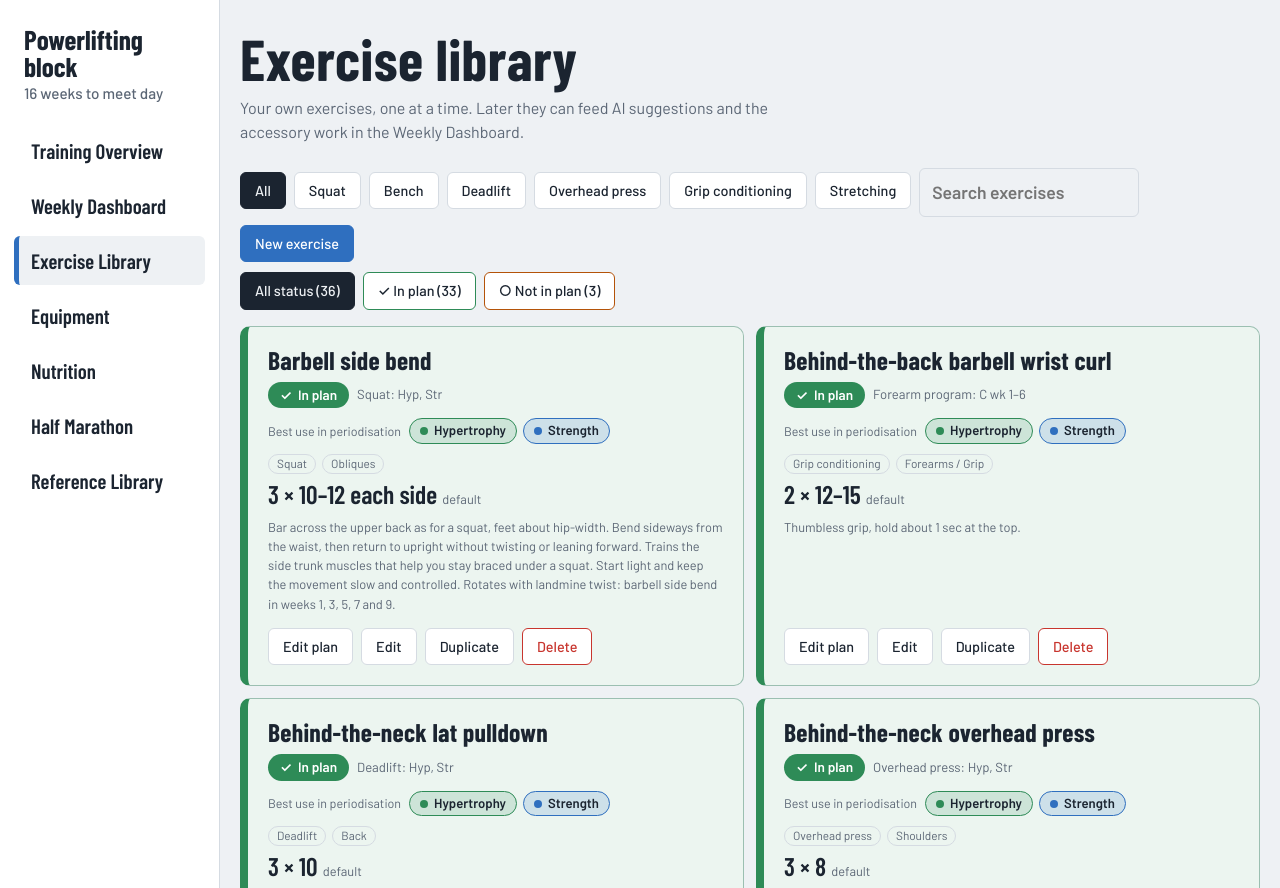
Test: exercise library › adds an exercise, puts it in the plan, renames it and deletes it
The width and height of the screenshot is (1280, 888).
Later steps or results of the test are not shown.
Step 1. Click the button "New exercise" → (297, 244), box [240,225,354,262]
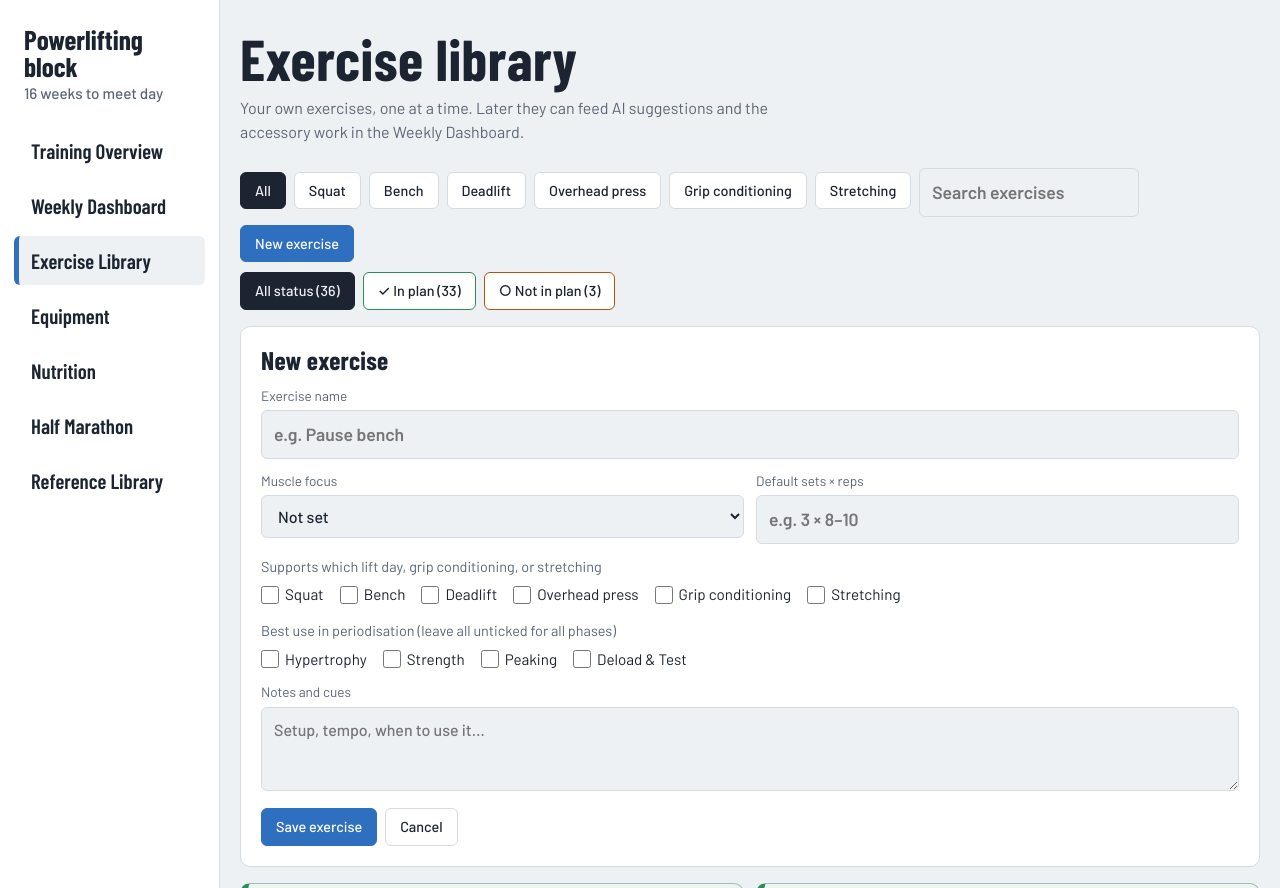
Step 2. Click the button "Save exercise" → (319, 827), box [261,808,377,846]
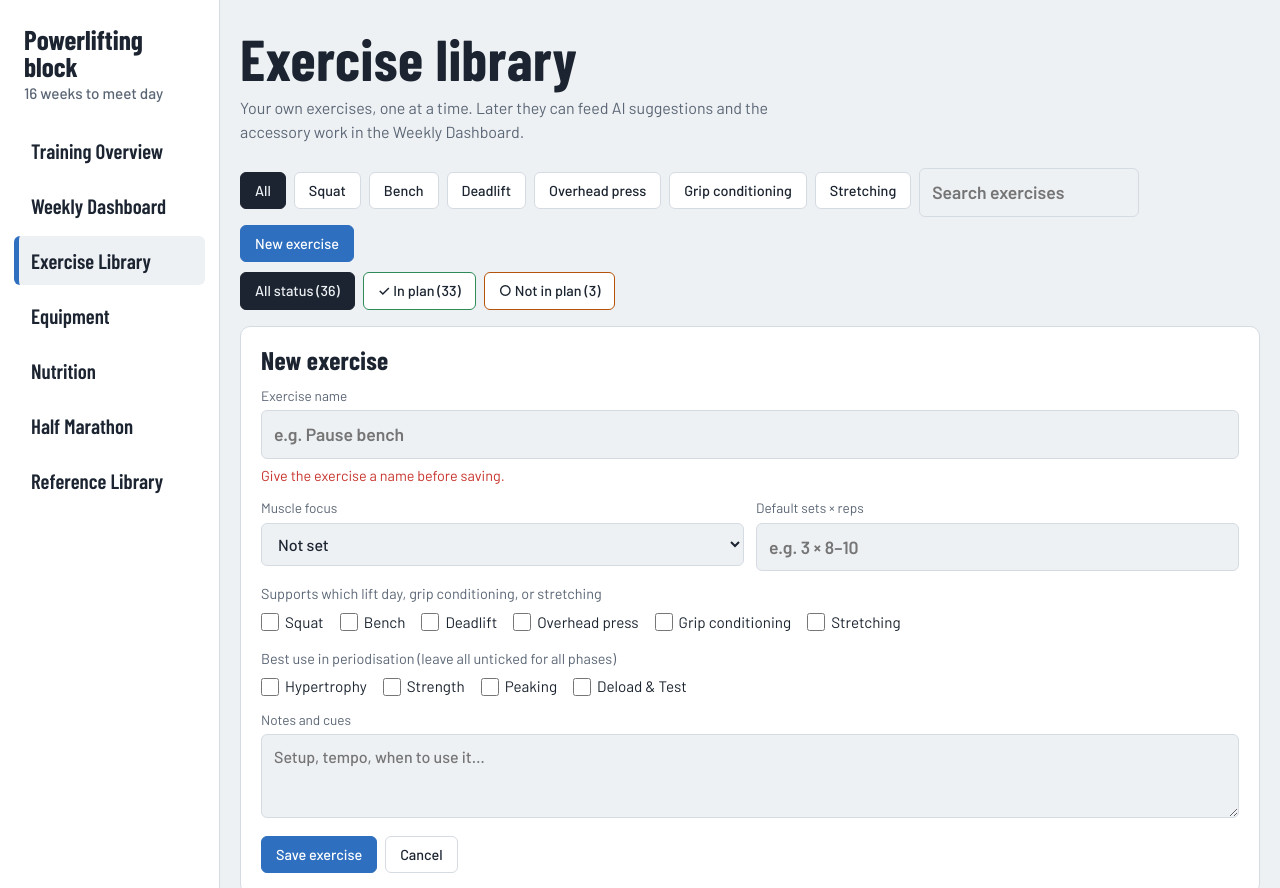
Expected: the text "Give the exercise a name before saving." is shown, [261,467,505,484]
Step 3. Type "Spoto press" into the field with id "dname" → (750, 434), box [261,410,1239,459]
Step 4. Type "3 × 6" into the field with id "dsets" → (998, 547), box [756,523,1239,571]
Step 5. Click the checkbox labelled "Bench" → (349, 622), box [340,613,358,631]
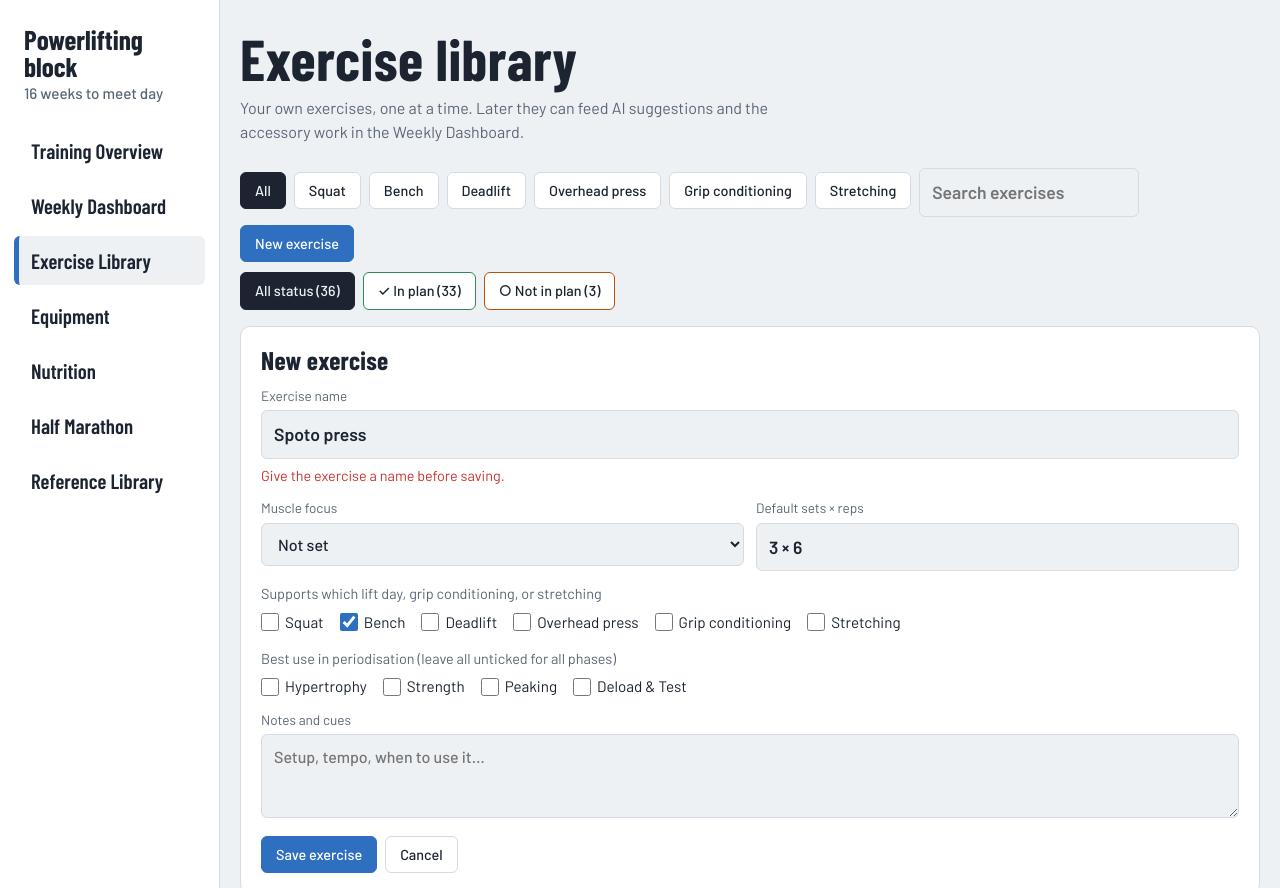
Step 6. Click the button "Save exercise" → (319, 854), box [261,836,377,873]
(page scrolled)
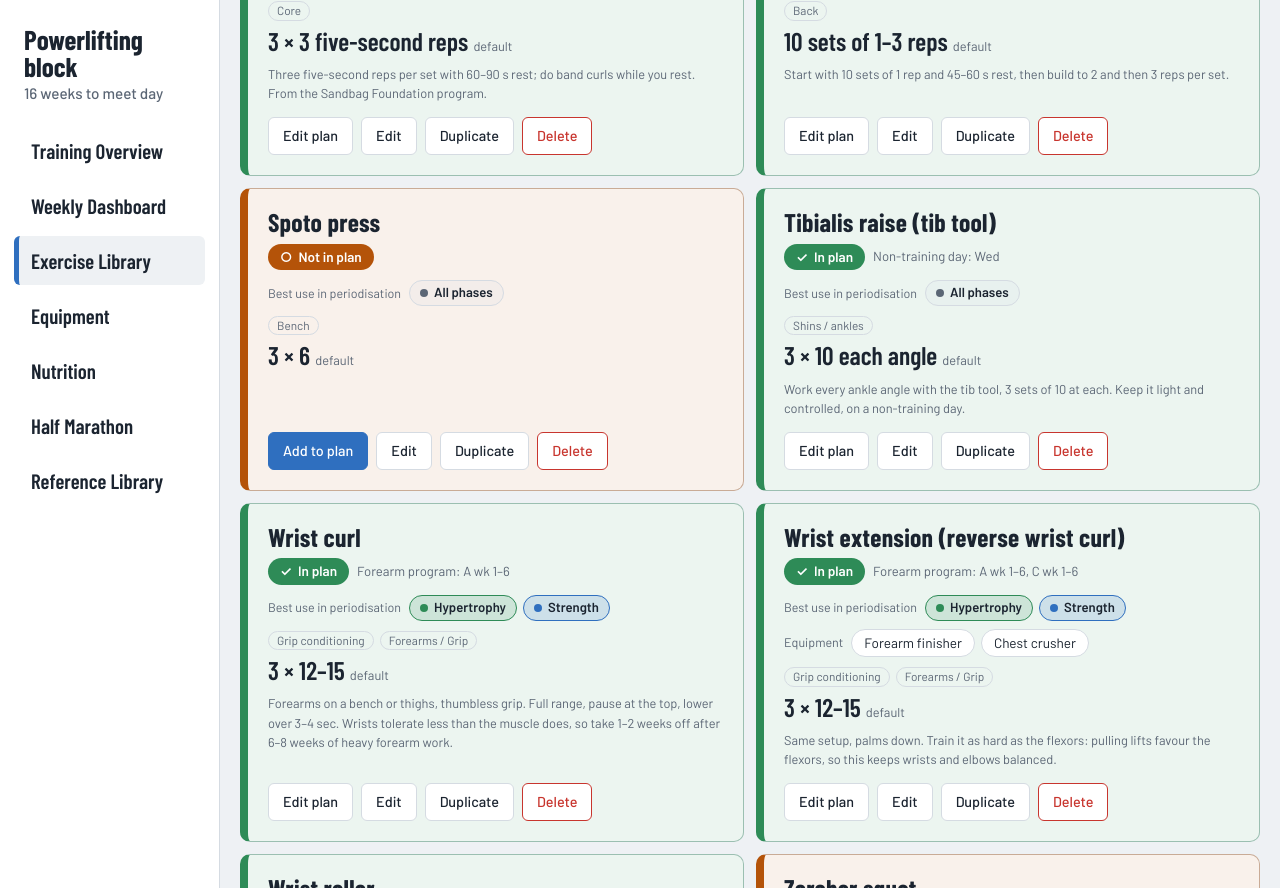
Expected: the element "Spoto press" shows "Not in plan", [298,248,362,265]
Step 7. Click the button "Add to plan" → (318, 451), box [268,432,368,470]
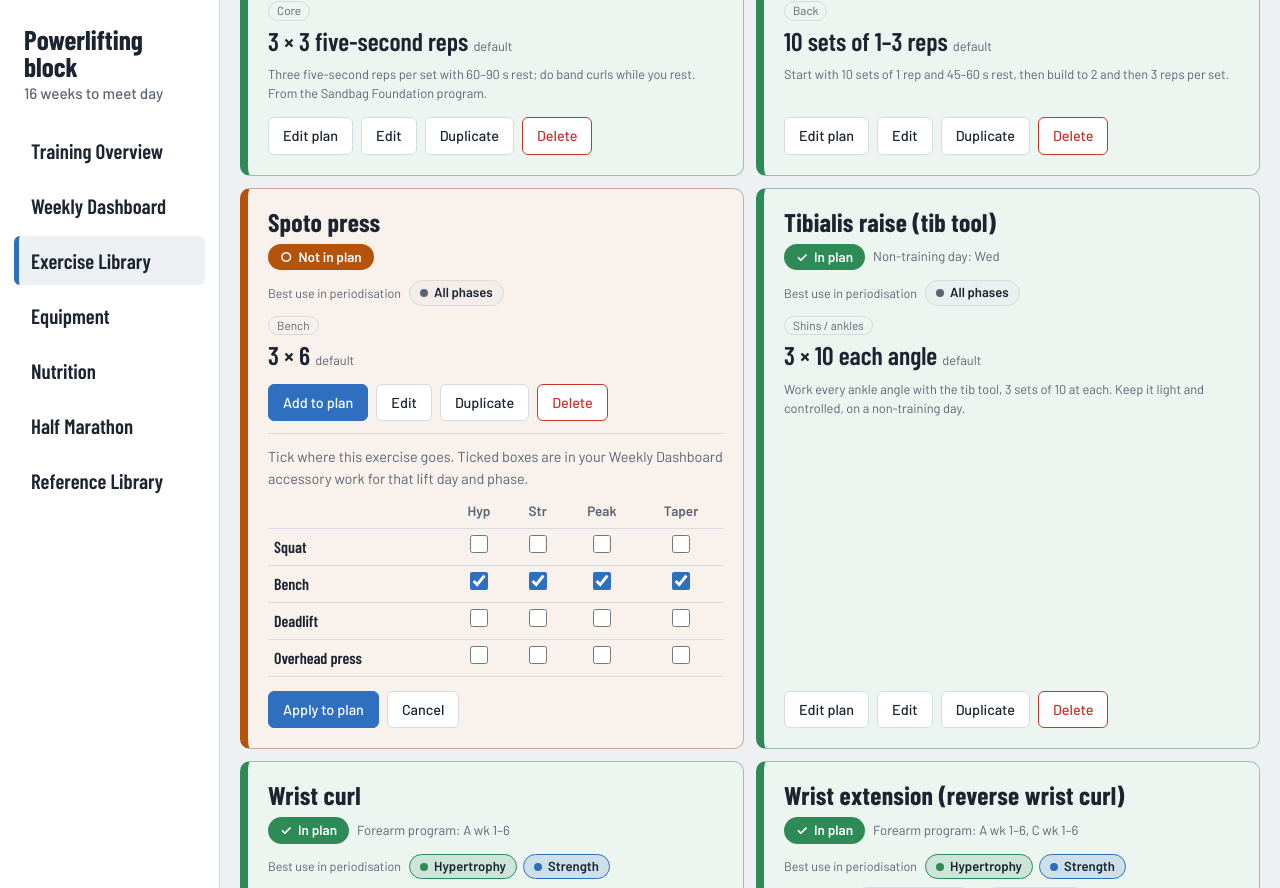
Expected: the checkbox named "Bench day, Hypertrophy" is checked, [470,572,488,590]
Step 8. Click the button "Apply to plan" → (323, 710), box [268,691,379,728]
(page scrolled)
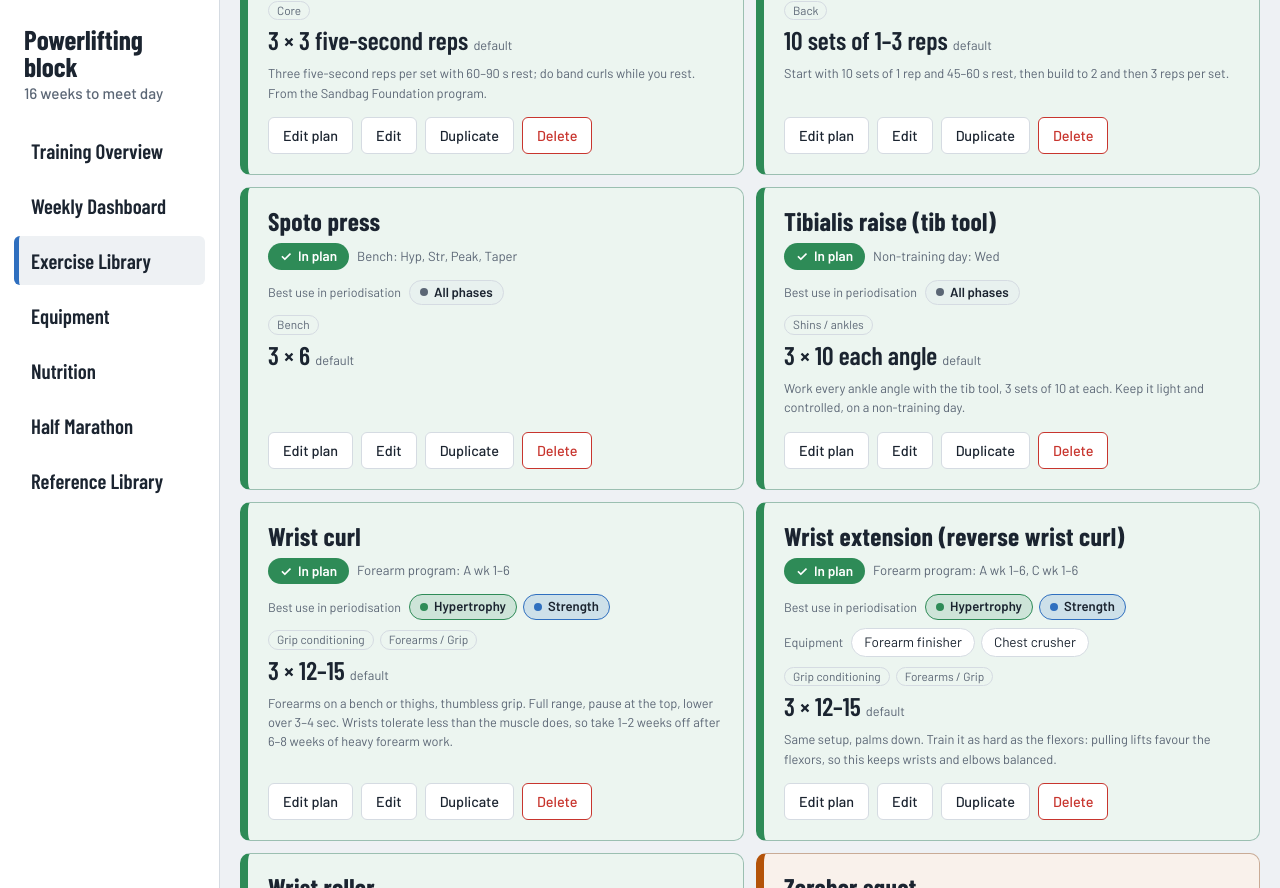
Expected: the element "Spoto press" shows "In plan", [298,247,337,264]
